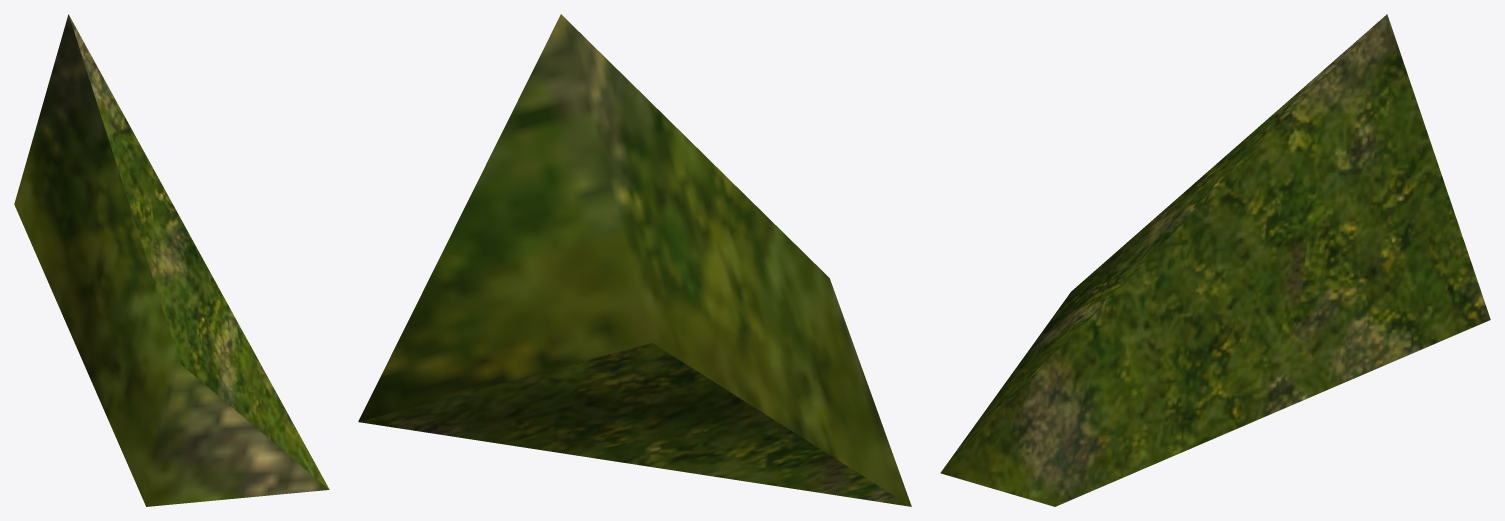
File: OVERHILL_A_01_LINE141.fbx
3 renders of one model, left to right at view 1: azimuth 30°, elevation 25°; view 2: azimuth 150°, elevation 25°; view 3: azimuth 270°, elevation 25°, orthographic. The views are drawn at different scales.
Parts seen in each view (by area): view 1: OVERHILL_A_01_LINE141; view 2: OVERHILL_A_01_LINE141; view 3: OVERHILL_A_01_LINE141.
Part boxes in pixels (<box>): OVERHILL_A_01_LINE141: <box>14,14,329,506</box>; OVERHILL_A_01_LINE141: <box>358,14,911,506</box>; OVERHILL_A_01_LINE141: <box>940,14,1490,506</box>.
Size of the model in its own units: 3900 by 9582 by 10749.
1 material, 1 textured.
